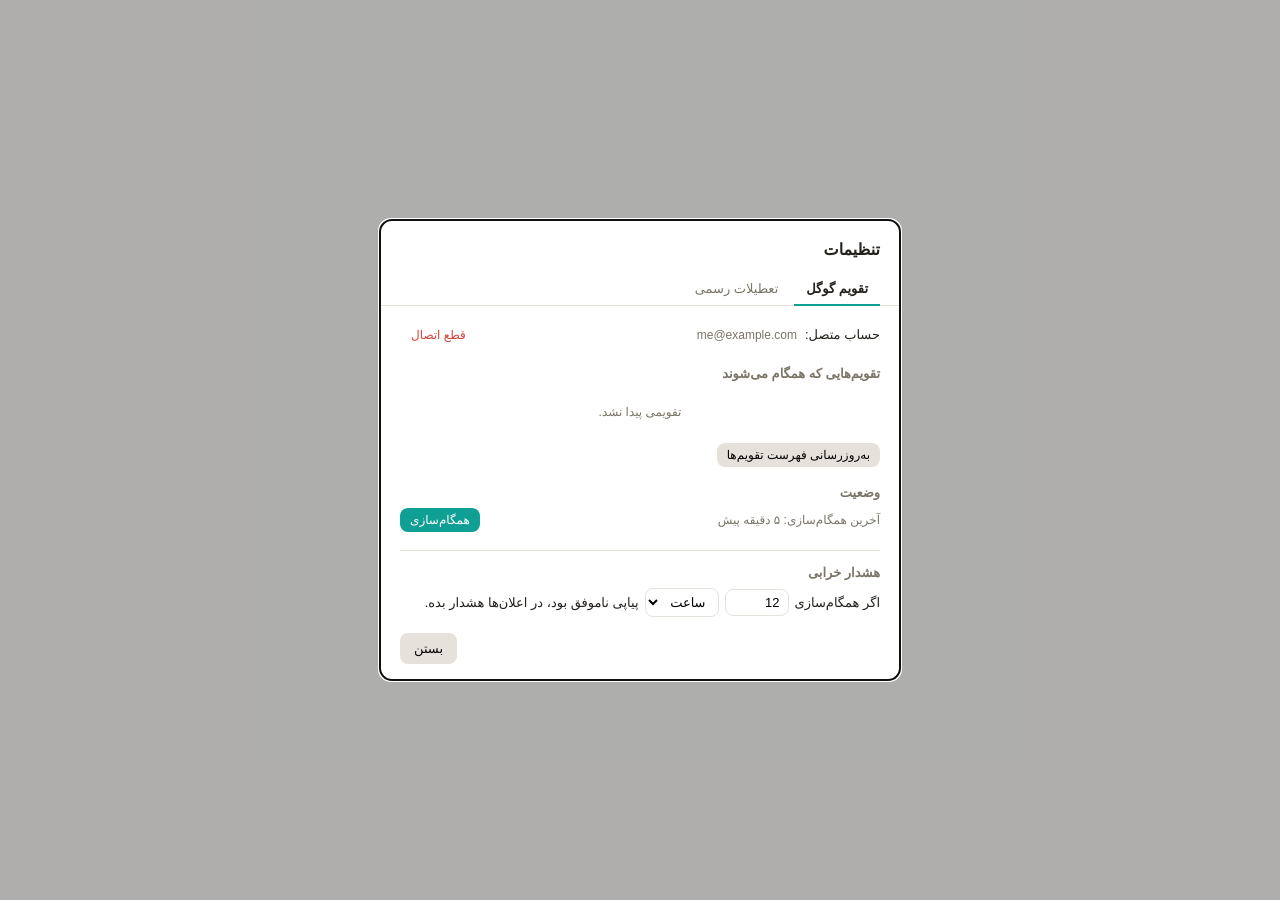
Test case: Settings — tabs › switches tabs by click, and only the selected tab is in the tab order
This screenshot has width=1280, height=900.
Click the tab "تعطیلات رسمی". click: [736, 289]
box: [683,273,790,306]
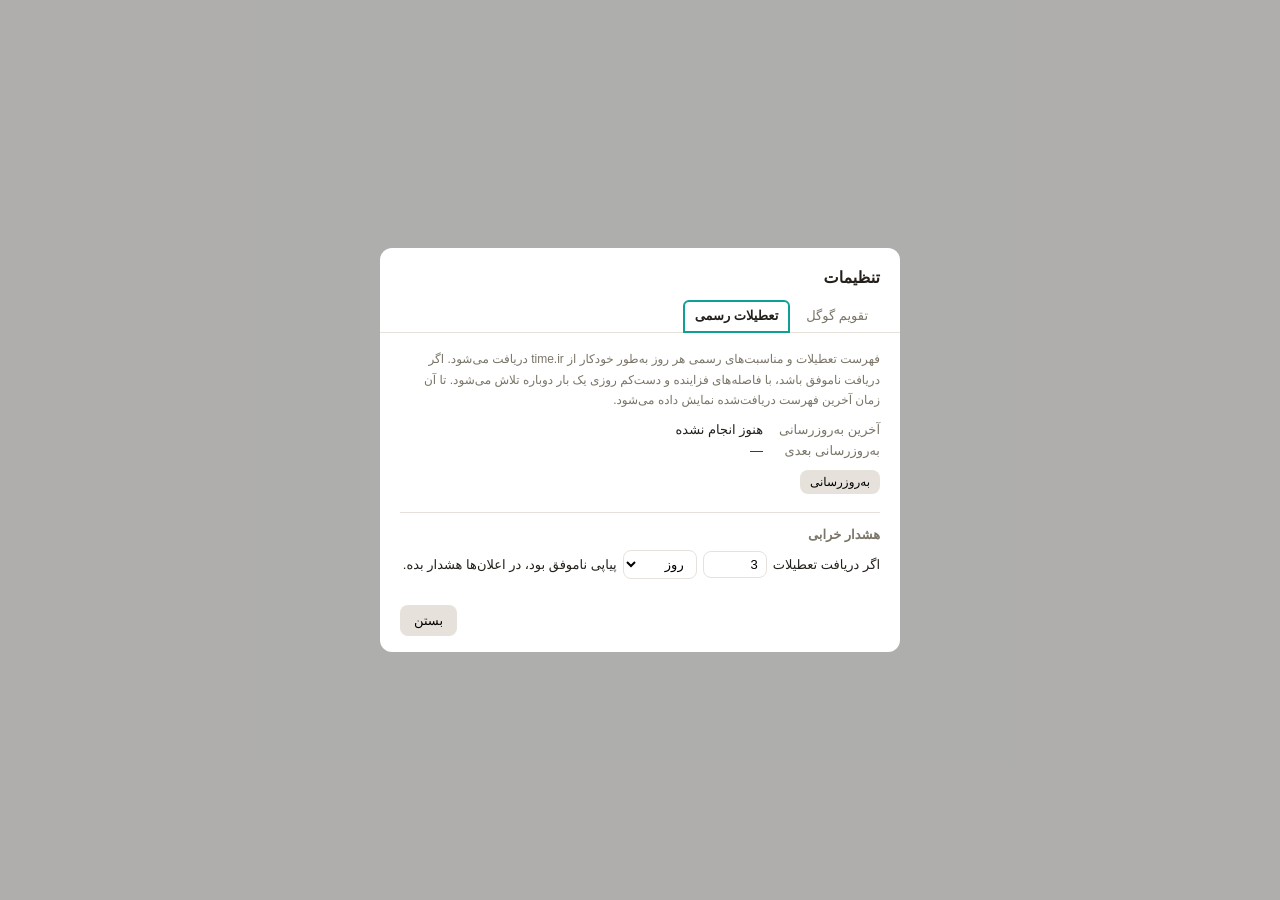
Expected: the text "به‌روزرسانی بعدی" is shown, [779,443,880,458]
